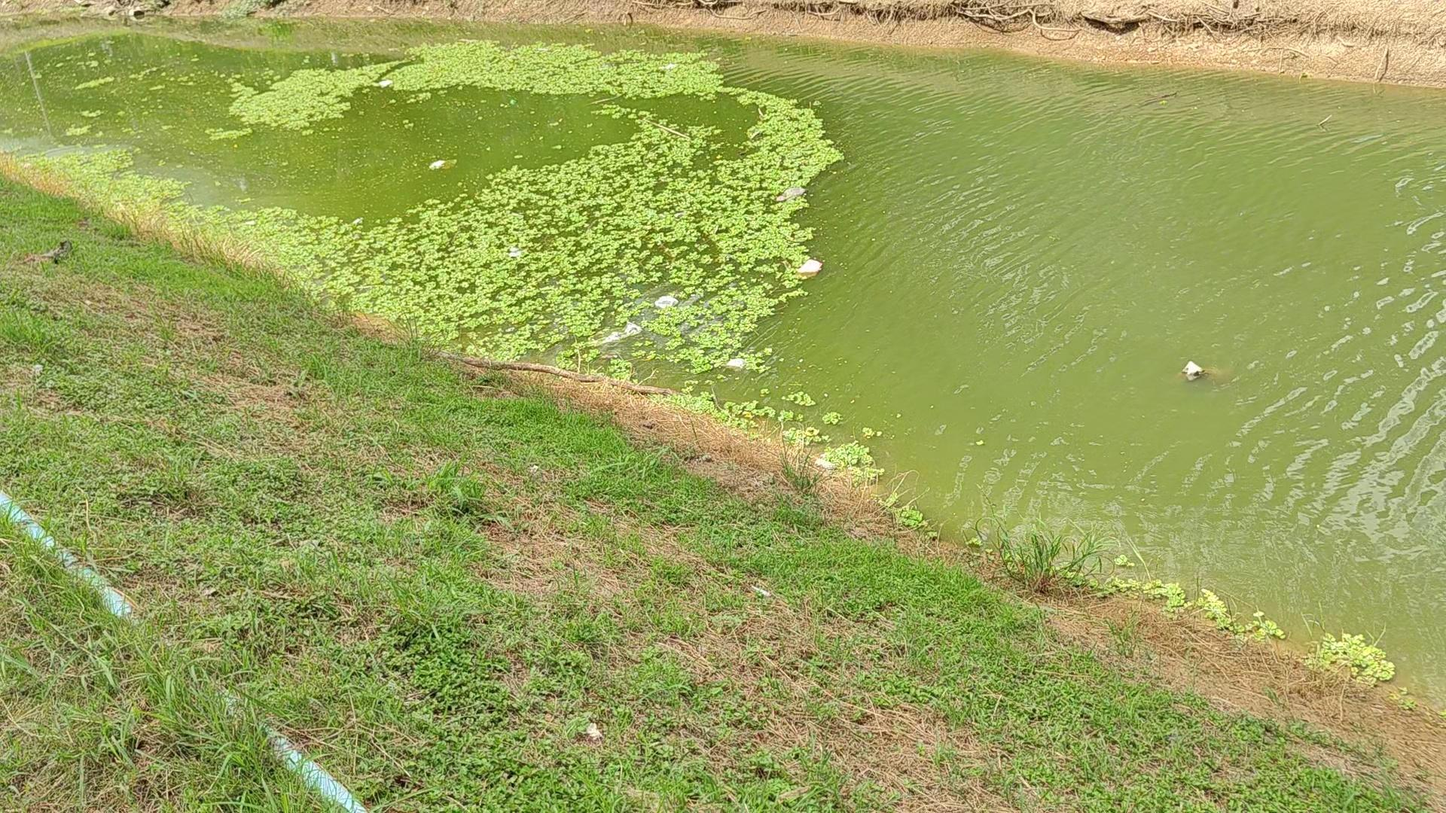trash: (798, 258, 822, 278), (774, 187, 806, 202), (1182, 361, 1204, 379), (654, 295, 678, 308), (621, 321, 641, 336), (727, 358, 746, 369), (429, 160, 449, 169), (378, 79, 392, 87), (509, 248, 520, 257), (663, 63, 677, 70), (605, 338, 615, 340)
